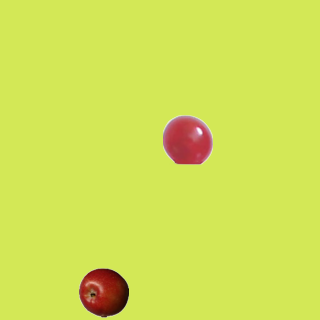Apple Braeburn: (78, 267, 128, 317)
Redcurrant: (162, 114, 212, 164)
